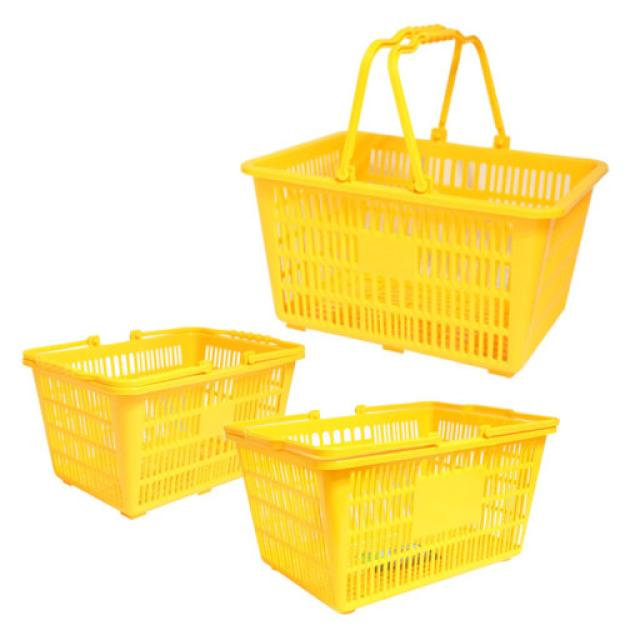basket: (226, 362, 589, 630), (20, 304, 326, 532)
